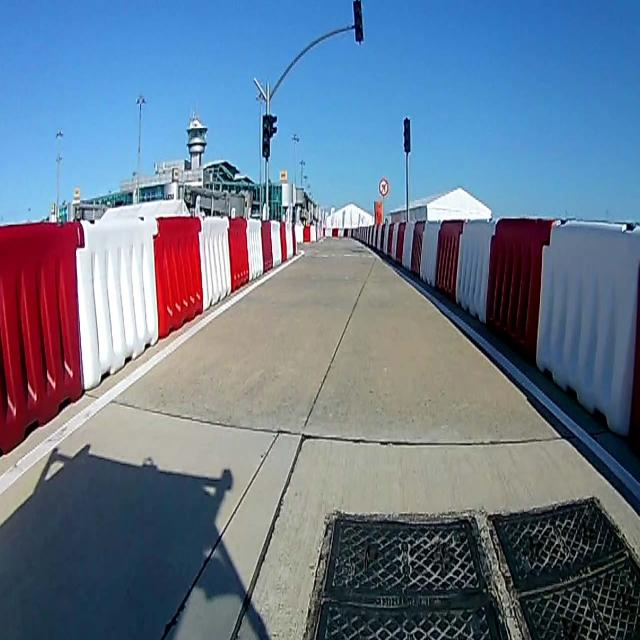soladonulmez: (378, 176, 388, 197)
